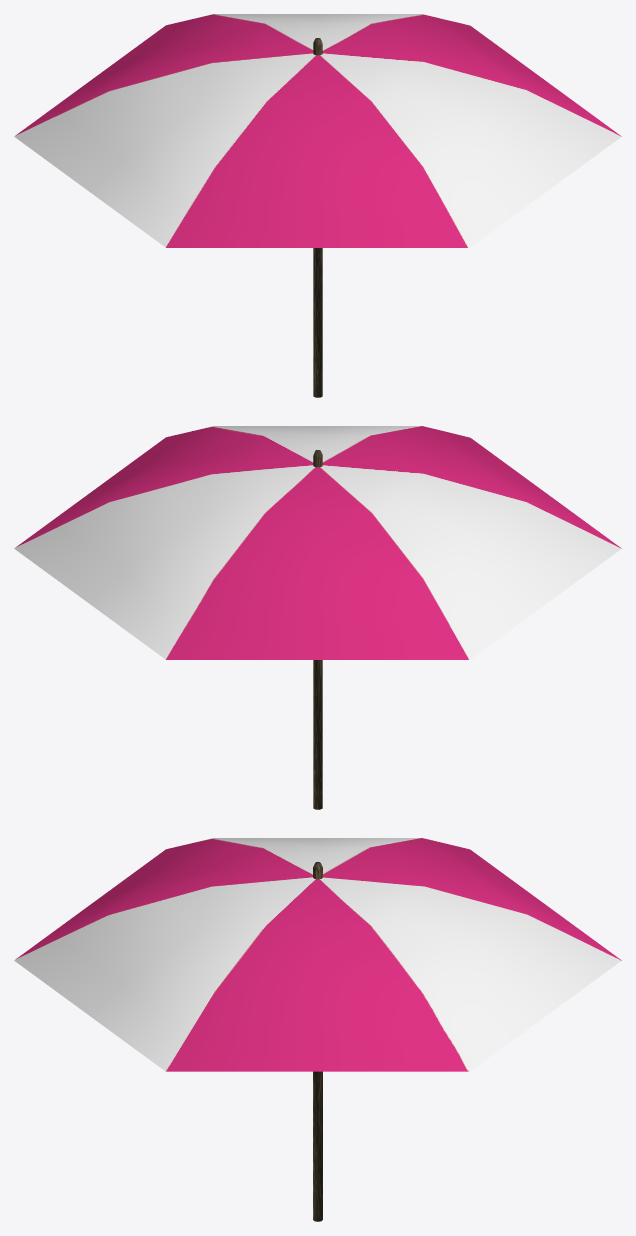
Rendered from parasol.fbx.
The picture shows the model from 3 angles, top to bottom: view 1: azimuth 30°, elevation 25°; view 2: azimuth 150°, elevation 25°; view 3: azimuth 270°, elevation 25°; orthographic projection.
Parts seen in each view (by area): view 1: Sphere, Cylinder; view 2: Sphere, Cylinder; view 3: Sphere, Cylinder.
Part boxes in pixels (x1,y1,x2,y2): Sphere: (14, 14, 621, 247); Cylinder: (313, 38, 322, 397); Sphere: (14, 426, 621, 659); Cylinder: (313, 450, 322, 809); Sphere: (14, 838, 621, 1071); Cylinder: (313, 862, 322, 1221).
Bounding box in the file's own units: 144 × 108 × 167.
